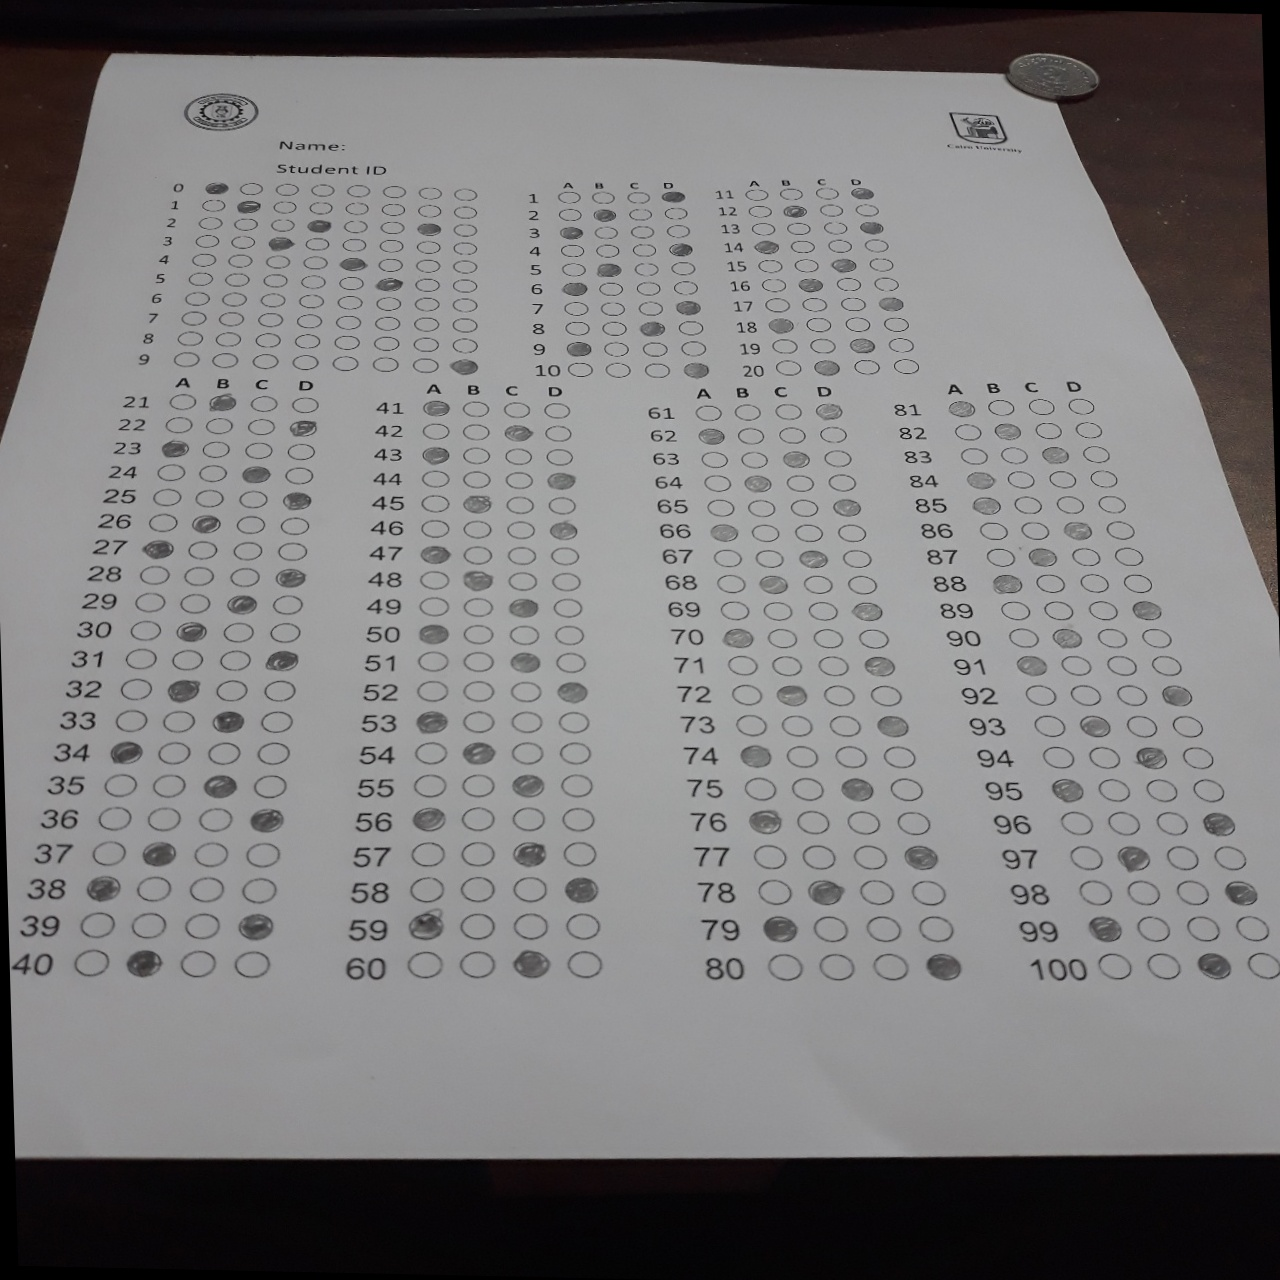not-c: (130, 908, 172, 940), (173, 949, 220, 978), (69, 948, 115, 976), (141, 804, 183, 835), (132, 874, 173, 904), (457, 912, 496, 941), (240, 874, 280, 903), (252, 770, 292, 798), (252, 738, 292, 767), (459, 840, 499, 869), (459, 804, 499, 832), (1242, 949, 1280, 979), (244, 840, 282, 869), (265, 619, 304, 647), (407, 949, 445, 978), (459, 949, 498, 978), (897, 806, 931, 838), (155, 738, 195, 765), (258, 678, 298, 704), (918, 912, 953, 942), (270, 591, 307, 619), (458, 874, 496, 903), (795, 806, 832, 835), (789, 775, 826, 803), (151, 771, 190, 798), (1211, 844, 1250, 871), (1170, 712, 1208, 738), (911, 877, 946, 906), (254, 707, 294, 733), (511, 912, 547, 940), (787, 740, 823, 768), (1136, 914, 1172, 942), (1107, 808, 1143, 836), (765, 953, 803, 980), (801, 843, 838, 870), (1191, 777, 1228, 804), (113, 707, 151, 733), (101, 770, 139, 796), (89, 839, 128, 865), (79, 911, 117, 937), (1067, 844, 1105, 870), (1184, 915, 1223, 941), (566, 910, 600, 939), (873, 951, 907, 980), (512, 874, 547, 903), (567, 949, 602, 978), (560, 806, 595, 835), (559, 770, 594, 798), (557, 740, 592, 768), (556, 708, 591, 736), (1125, 877, 1160, 905), (819, 953, 856, 980), (813, 915, 850, 942), (851, 843, 887, 870), (1095, 952, 1131, 979), (1144, 951, 1180, 978), (96, 804, 134, 830), (192, 840, 230, 866), (233, 952, 271, 978), (1075, 880, 1112, 906), (1163, 844, 1200, 870), (1234, 915, 1272, 941), (1182, 745, 1219, 771), (563, 839, 597, 867), (182, 913, 220, 938), (459, 772, 498, 797), (413, 738, 449, 764), (865, 915, 901, 941), (1172, 879, 1208, 905), (118, 678, 156, 702), (176, 591, 213, 615), (188, 878, 225, 903), (461, 709, 498, 734), (459, 649, 497, 674), (554, 651, 588, 678), (413, 772, 448, 798), (409, 840, 444, 866), (860, 879, 896, 905), (867, 681, 903, 707), (1096, 777, 1131, 803), (1069, 683, 1104, 709), (198, 806, 234, 831), (459, 678, 496, 702), (779, 712, 816, 736), (130, 591, 168, 614), (127, 618, 164, 641), (205, 741, 243, 764), (768, 654, 805, 678), (1143, 778, 1180, 802), (758, 878, 792, 904), (888, 775, 922, 801), (884, 743, 918, 769), (1141, 624, 1175, 649), (410, 878, 445, 903), (459, 621, 495, 646), (1124, 713, 1159, 737), (159, 708, 196, 731), (170, 647, 206, 670), (181, 563, 217, 586), (275, 538, 312, 561), (847, 809, 880, 835), (742, 776, 776, 801), (753, 844, 787, 869), (835, 522, 869, 546), (1087, 745, 1121, 770), (1150, 653, 1184, 678), (764, 626, 799, 649), (816, 654, 851, 678), (1153, 811, 1189, 835), (1104, 516, 1139, 539), (1096, 491, 1131, 515), (510, 679, 542, 704), (511, 738, 543, 764), (125, 648, 162, 670), (457, 545, 493, 567), (510, 708, 543, 733), (461, 468, 495, 491), (457, 420, 491, 443), (821, 447, 855, 470), (1032, 714, 1065, 737), (1058, 811, 1092, 835), (1017, 518, 1051, 542), (1112, 544, 1146, 567), (218, 649, 256, 670), (213, 679, 251, 700), (512, 804, 543, 830), (754, 545, 789, 567), (751, 522, 787, 544), (822, 683, 857, 706), (826, 714, 862, 736), (844, 573, 879, 595), (835, 743, 866, 768), (1003, 467, 1035, 491), (550, 568, 583, 592), (542, 423, 574, 447), (1060, 653, 1092, 676), (413, 680, 449, 701), (459, 517, 493, 539), (457, 397, 491, 420), (760, 598, 794, 620), (856, 626, 890, 648), (840, 547, 874, 570), (826, 471, 860, 493), (1012, 492, 1046, 515), (1121, 573, 1155, 595), (552, 595, 583, 620), (545, 445, 576, 470), (737, 713, 768, 737), (414, 651, 449, 672), (462, 595, 497, 617), (554, 624, 586, 647), (547, 543, 579, 566), (547, 493, 579, 517), (542, 399, 573, 422), (284, 440, 316, 462), (463, 445, 496, 468), (1042, 599, 1075, 621), (191, 486, 225, 508), (282, 465, 316, 486), (1024, 685, 1058, 706), (1041, 745, 1075, 767), (1034, 571, 1065, 593), (227, 566, 263, 586), (278, 515, 311, 536), (509, 622, 542, 644), (195, 462, 229, 482), (222, 622, 256, 642), (812, 628, 846, 648), (808, 600, 839, 621), (816, 423, 847, 444), (953, 421, 985, 442), (1000, 599, 1032, 620), (236, 490, 273, 508), (232, 542, 267, 560), (200, 440, 233, 459), (418, 467, 451, 486), (418, 493, 451, 513), (956, 445, 989, 465), (978, 520, 1010, 540), (983, 547, 1016, 567), (1008, 628, 1041, 648), (1088, 468, 1121, 488), (699, 450, 729, 471), (1097, 627, 1128, 648), (1107, 654, 1137, 675), (244, 418, 280, 436), (234, 515, 268, 533), (151, 486, 183, 506), (138, 564, 170, 584), (785, 471, 817, 491), (1116, 685, 1148, 704), (1073, 546, 1101, 568), (241, 442, 277, 459), (502, 397, 531, 418), (1000, 445, 1029, 467), (1034, 418, 1063, 440), (1055, 492, 1084, 513), (161, 414, 193, 433), (154, 463, 186, 482), (418, 421, 451, 440), (733, 401, 765, 420), (1073, 420, 1105, 438), (147, 512, 177, 532), (421, 518, 451, 538), (418, 570, 449, 590), (692, 401, 722, 421), (728, 656, 758, 676), (731, 685, 762, 704), (771, 401, 802, 421), (794, 522, 824, 542), (1087, 599, 1117, 619), (1080, 444, 1114, 462), (1065, 397, 1099, 415), (290, 394, 321, 413), (803, 576, 835, 594), (987, 396, 1015, 417), (418, 595, 448, 615), (504, 471, 533, 491), (508, 571, 537, 591), (706, 496, 735, 516), (717, 572, 747, 592), (246, 395, 281, 411), (257, 290, 287, 308), (701, 474, 731, 492), (720, 602, 750, 621), (745, 498, 776, 517), (740, 449, 770, 468), (734, 425, 764, 444), (789, 498, 819, 517), (508, 493, 535, 515), (508, 518, 535, 539), (1048, 468, 1075, 489), (503, 445, 531, 465), (506, 546, 535, 566), (1028, 395, 1056, 415), (1080, 574, 1108, 594), (253, 331, 282, 349), (712, 549, 741, 567), (778, 425, 808, 444), (341, 182, 372, 199), (306, 182, 336, 199), (411, 335, 440, 354), (411, 312, 440, 331), (411, 293, 440, 312), (411, 274, 440, 293), (256, 309, 284, 328), (859, 239, 891, 256), (871, 275, 903, 292), (850, 360, 881, 376), (202, 417, 236, 433), (641, 360, 670, 377), (342, 217, 372, 234), (411, 356, 438, 375), (169, 393, 196, 411), (851, 202, 881, 218), (865, 257, 896, 273), (757, 257, 785, 274), (663, 224, 692, 241), (641, 338, 669, 355), (629, 223, 658, 240), (588, 188, 617, 205), (591, 223, 619, 240), (414, 256, 440, 274), (332, 313, 361, 329), (333, 293, 362, 309), (272, 181, 301, 197), (267, 216, 297, 232), (828, 238, 855, 256), (815, 182, 842, 199), (775, 359, 802, 376), (597, 279, 624, 297), (601, 319, 628, 336), (602, 339, 629, 356), (880, 316, 911, 332), (890, 358, 920, 373), (230, 216, 260, 231), (816, 200, 844, 217), (787, 237, 815, 253), (794, 258, 822, 274), (808, 338, 836, 354), (770, 338, 798, 354), (764, 297, 792, 313), (661, 205, 689, 222), (636, 299, 665, 315), (626, 188, 654, 204), (598, 300, 626, 316), (602, 360, 631, 376), (565, 360, 593, 376), (333, 333, 361, 349), (340, 236, 368, 252), (343, 200, 372, 217), (268, 198, 297, 215), (211, 352, 239, 368), (451, 222, 481, 237), (449, 258, 478, 273), (451, 297, 481, 312), (329, 356, 359, 372), (234, 181, 264, 196), (885, 338, 917, 352), (836, 277, 863, 293), (777, 184, 804, 200), (805, 315, 832, 332), (761, 277, 788, 293), (670, 280, 697, 297), (678, 319, 704, 335), (681, 340, 708, 356), (635, 280, 662, 297), (626, 205, 653, 222), (594, 241, 621, 258), (558, 205, 585, 222), (372, 355, 399, 372), (304, 234, 331, 251), (300, 273, 327, 290), (265, 252, 292, 268), (227, 252, 254, 268), (220, 290, 247, 306), (215, 332, 241, 348), (173, 350, 200, 367), (176, 331, 203, 347), (181, 309, 207, 326), (415, 238, 440, 256), (417, 182, 442, 199), (843, 316, 871, 332), (840, 297, 869, 312), (801, 297, 829, 312), (750, 222, 778, 237), (747, 204, 775, 219), (667, 263, 695, 278), (633, 263, 661, 278), (629, 241, 658, 257), (451, 277, 479, 292), (336, 274, 365, 290), (301, 256, 329, 271), (290, 354, 318, 369), (261, 272, 290, 287), (198, 213, 226, 229), (452, 316, 478, 333), (452, 336, 478, 353), (309, 198, 335, 215), (225, 271, 251, 287), (183, 291, 209, 307), (450, 188, 479, 202), (418, 202, 442, 219), (822, 219, 849, 234), (787, 219, 813, 234), (745, 186, 772, 202), (561, 319, 588, 334), (561, 301, 588, 316), (559, 243, 586, 258), (229, 233, 256, 248), (297, 293, 324, 308), (251, 352, 278, 367), (188, 271, 215, 286), (189, 251, 216, 266), (195, 231, 222, 246), (200, 198, 227, 213), (381, 181, 406, 197), (380, 199, 404, 216), (560, 261, 588, 275), (452, 205, 481, 219), (449, 240, 477, 254), (295, 313, 321, 328), (294, 332, 320, 347), (219, 309, 245, 325), (553, 190, 583, 203), (375, 297, 400, 312), (377, 237, 403, 251), (377, 258, 403, 272), (373, 316, 399, 331), (379, 220, 406, 233), (374, 336, 399, 350)
taken-c: (123, 942, 164, 976), (512, 945, 553, 978), (508, 836, 549, 869), (505, 768, 546, 801), (84, 871, 124, 903), (503, 645, 542, 675), (138, 840, 181, 867), (238, 911, 277, 940), (220, 590, 259, 619), (200, 771, 240, 799), (108, 735, 145, 764), (206, 707, 245, 735), (108, 736, 144, 765), (922, 954, 962, 980), (791, 544, 830, 570), (495, 418, 533, 444), (455, 490, 493, 516), (413, 395, 451, 421), (284, 414, 322, 440), (278, 489, 316, 515), (563, 876, 598, 904), (761, 915, 797, 942), (838, 776, 876, 802), (458, 738, 496, 764), (413, 622, 450, 648), (459, 567, 498, 592), (410, 806, 449, 831), (416, 542, 455, 566), (263, 651, 301, 675), (248, 806, 287, 831), (406, 914, 445, 938), (410, 709, 448, 734), (415, 443, 452, 468), (272, 565, 309, 590), (163, 678, 200, 702), (964, 467, 998, 493), (874, 712, 908, 738), (139, 535, 173, 561), (1061, 517, 1096, 543), (989, 417, 1024, 443), (1021, 543, 1056, 568), (1049, 625, 1084, 651), (1089, 917, 1124, 942), (1012, 652, 1047, 678), (942, 394, 978, 420), (809, 399, 844, 424), (203, 389, 241, 413), (806, 878, 842, 904), (173, 619, 210, 644), (1160, 682, 1194, 708), (1078, 712, 1112, 737), (1051, 776, 1085, 802), (830, 493, 864, 519), (1128, 598, 1163, 622), (1200, 812, 1235, 837), (1194, 953, 1230, 978), (1039, 442, 1074, 467), (1116, 845, 1151, 870), (860, 653, 896, 678), (186, 509, 222, 533), (775, 448, 813, 470), (738, 742, 771, 768), (693, 422, 726, 448), (1223, 880, 1257, 905), (989, 571, 1023, 595), (971, 493, 1005, 518), (903, 845, 937, 870), (750, 806, 782, 832), (722, 624, 754, 649), (708, 520, 740, 546), (545, 468, 577, 493), (774, 685, 806, 709), (556, 681, 588, 706), (1132, 745, 1166, 769), (849, 599, 883, 622), (549, 517, 579, 543), (240, 462, 272, 486), (157, 434, 189, 458), (753, 574, 790, 594), (737, 474, 774, 493), (305, 215, 335, 234), (449, 356, 479, 376), (592, 259, 622, 279), (199, 178, 230, 197), (414, 219, 444, 238), (588, 203, 615, 224), (265, 232, 294, 251), (685, 359, 710, 380), (554, 224, 585, 241), (234, 196, 263, 215), (640, 316, 665, 338), (667, 238, 692, 259), (336, 256, 366, 273), (373, 275, 402, 293), (564, 340, 593, 358), (559, 280, 588, 298), (673, 297, 699, 316), (813, 358, 840, 376), (778, 200, 805, 219), (847, 338, 874, 355), (753, 237, 778, 254), (768, 315, 794, 333), (795, 275, 821, 293), (829, 256, 855, 273), (858, 219, 884, 237), (849, 184, 874, 202), (877, 294, 903, 311), (660, 185, 685, 202)
